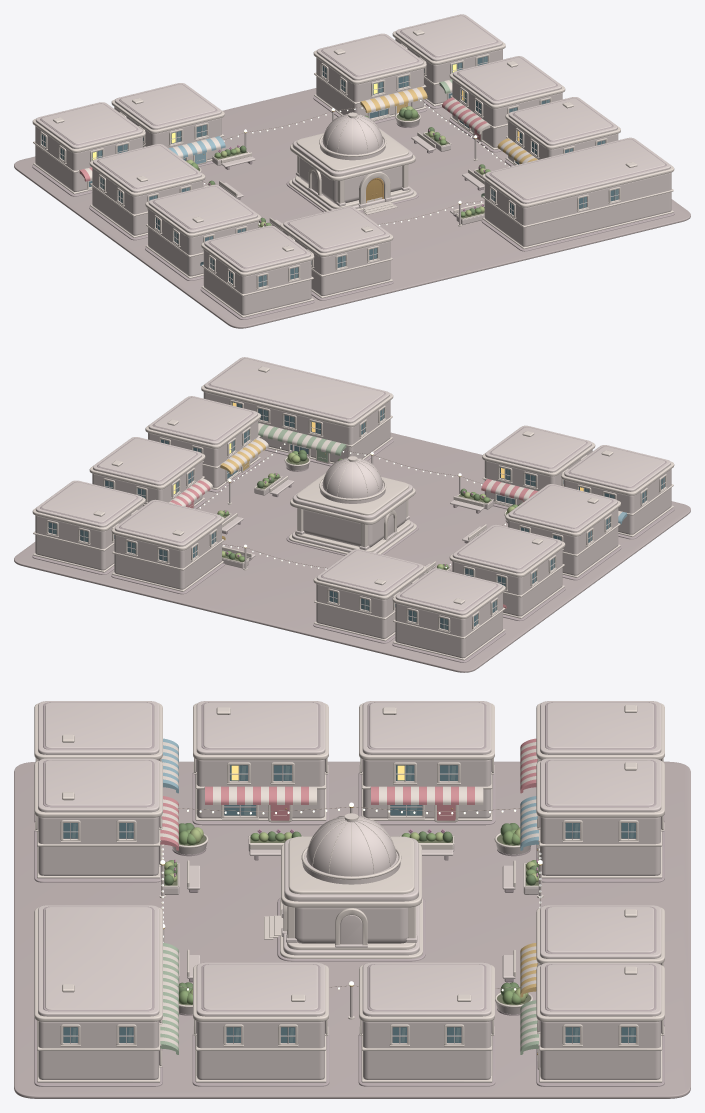
Rendered from lower-plaza-v83.glb.
3 views of the same model, one above another, from view 1: azimuth 30°, elevation 25°; view 2: azimuth 150°, elevation 25°; view 3: azimuth 270°, elevation 25° (orthographic). The views are drawn at different scales.
Parts seen in each view (by area): view 1: PLAZA83_porcelain, PLAZA83_WALKABLE_GROUND, PLAZA83_edge, PLAZA83_inset, PLAZA83_glass, PLAZA83_yellow, PLAZA83_rose, PLAZA83_blue; view 2: PLAZA83_porcelain, PLAZA83_WALKABLE_GROUND, PLAZA83_edge, PLAZA83_inset, PLAZA83_glass, PLAZA83_sage, PLAZA83_rose, PLAZA83_yellow; view 3: PLAZA83_porcelain, PLAZA83_WALKABLE_GROUND, PLAZA83_edge, PLAZA83_inset, PLAZA83_glass, PLAZA83_rose, PLAZA83_sage, PLAZA83_leaf, PLAZA83_leafDark, PLAZA83_blue, PLAZA83_reflection, PLAZA83_leafLight.
Part boxes in pixels (x1,y1,x2,y2): PLAZA83_porcelain: (35, 14, 671, 315); PLAZA83_WALKABLE_GROUND: (14, 88, 690, 328); PLAZA83_edge: (32, 29, 674, 317); PLAZA83_inset: (32, 15, 674, 319); PLAZA83_glass: (41, 56, 618, 286); PLAZA83_yellow: (360, 87, 537, 163); PLAZA83_rose: (79, 97, 486, 181); PLAZA83_blue: (168, 136, 225, 265); PLAZA83_porcelain: (35, 357, 671, 658); PLAZA83_WALKABLE_GROUND: (14, 432, 690, 672); PLAZA83_edge: (32, 366, 674, 660); PLAZA83_inset: (32, 358, 674, 662); PLAZA83_glass: (48, 402, 664, 629); PLAZA83_sage: (258, 423, 346, 462); PLAZA83_rose: (170, 479, 537, 608); PLAZA83_yellow: (220, 439, 265, 540); PLAZA83_porcelain: (38, 701, 661, 1079); PLAZA83_WALKABLE_GROUND: (14, 761, 690, 1098); PLAZA83_edge: (34, 703, 664, 1082); PLAZA83_inset: (34, 702, 664, 1086); PLAZA83_glass: (63, 765, 635, 1042); PLAZA83_rose: (160, 738, 537, 850); PLAZA83_sage: (160, 942, 538, 1054); PLAZA83_leaf: (164, 829, 538, 1004); PLAZA83_leafDark: (164, 823, 538, 995); PLAZA83_blue: (161, 738, 538, 850); PLAZA83_reflection: (72, 766, 634, 1042); PLAZA83_leafLight: (164, 827, 538, 1002).
Bounding box in the file's own units: 105 × 16.88 × 89.67.
